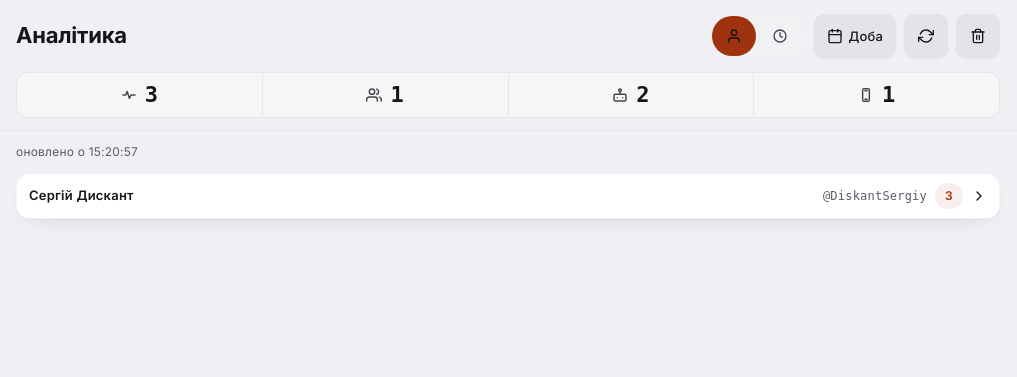
екран «Аналітика» › догортає список і каже, скільки вже видно
Click the tab named "За часом" at (780, 36), box [758,16,802,56]
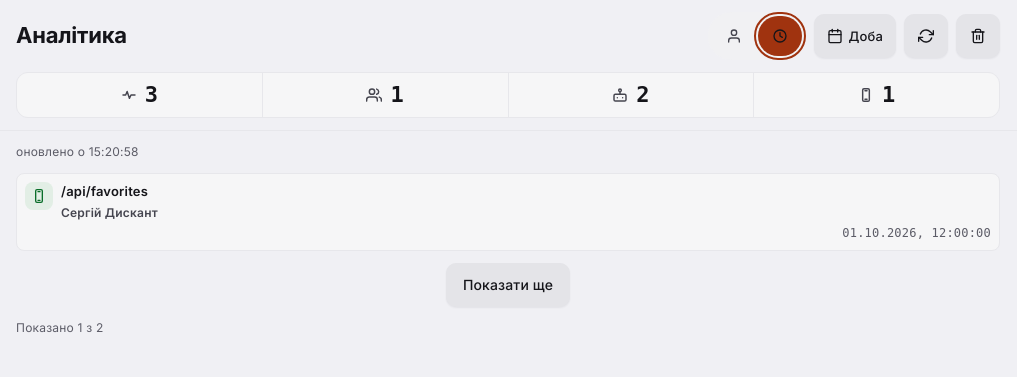
Now the text "/api/favorites" is shown, box [61,183,148,199]
Click the button "Показати ще" at (508, 284), box [446,262,570,306]
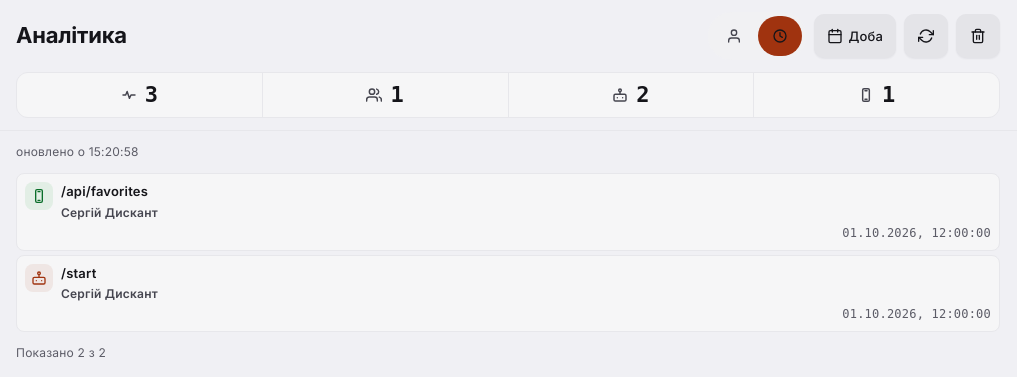
Now the text "/start" is shown, box [61,264,96,280]
Now the text "Показано 2 з 2" is shown, box [16,345,106,360]
